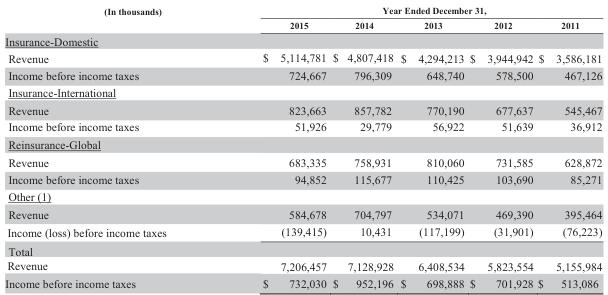table: (4, 4, 601, 289)
table column: (4, 4, 213, 289), (213, 4, 329, 289), (396, 4, 466, 289), (466, 4, 534, 289), (329, 4, 396, 289), (534, 4, 601, 289)
table column header: (4, 4, 601, 32)
table projected row header: (4, 135, 601, 153), (4, 32, 601, 49), (4, 83, 601, 100), (4, 187, 601, 204), (4, 241, 601, 257)
table row: (4, 222, 601, 241), (4, 100, 601, 118), (4, 135, 601, 153), (4, 204, 601, 222), (4, 32, 601, 49), (4, 49, 601, 66), (4, 66, 601, 83), (4, 83, 601, 100), (4, 118, 601, 135), (4, 153, 601, 170), (4, 170, 601, 187), (4, 187, 601, 204), (4, 257, 601, 274), (4, 241, 601, 257), (4, 17, 601, 32), (4, 274, 601, 289), (4, 4, 601, 17)
table spanning cell: (4, 4, 213, 32), (213, 4, 601, 17)
